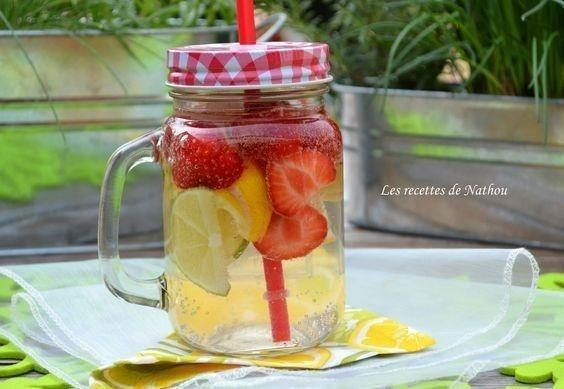glass-mug: (92, 36, 350, 360)
